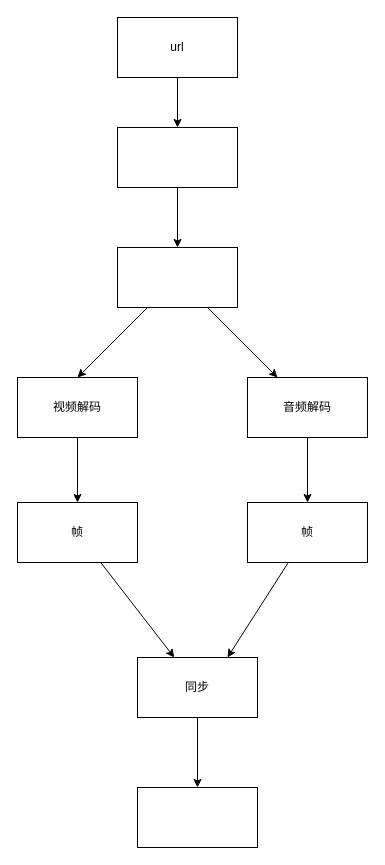
Image size: 385x865. Some labels were removed from this diagram. The shapes that lost their labels are listed below. From the top down, each one's centre as x and y in pixels, then its label:
[177,157]: 获取context
[177,277]: packet
[197,817]: 播放
